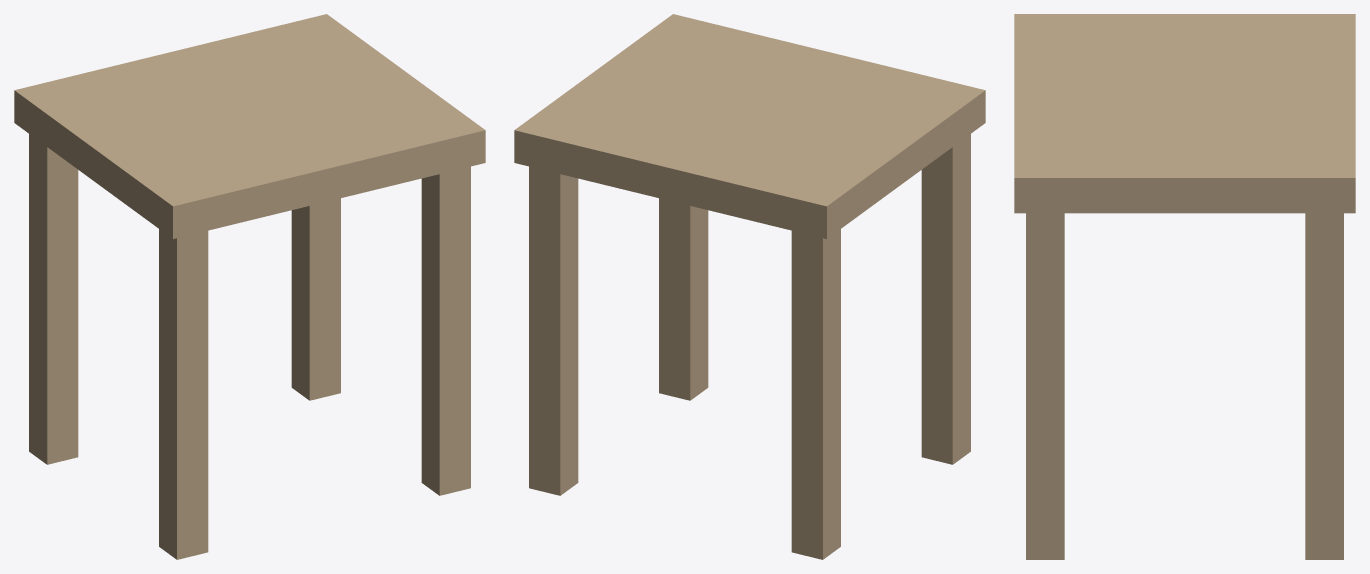
The model's file is mundane_side_table.glb.
3 renders of one model, left to right at view 1: azimuth 30°, elevation 25°; view 2: azimuth 150°, elevation 25°; view 3: azimuth 270°, elevation 25°, orthographic. The views are drawn at different scales.
Size of the model in its own units: 0.5 by 0.55 by 0.44.
